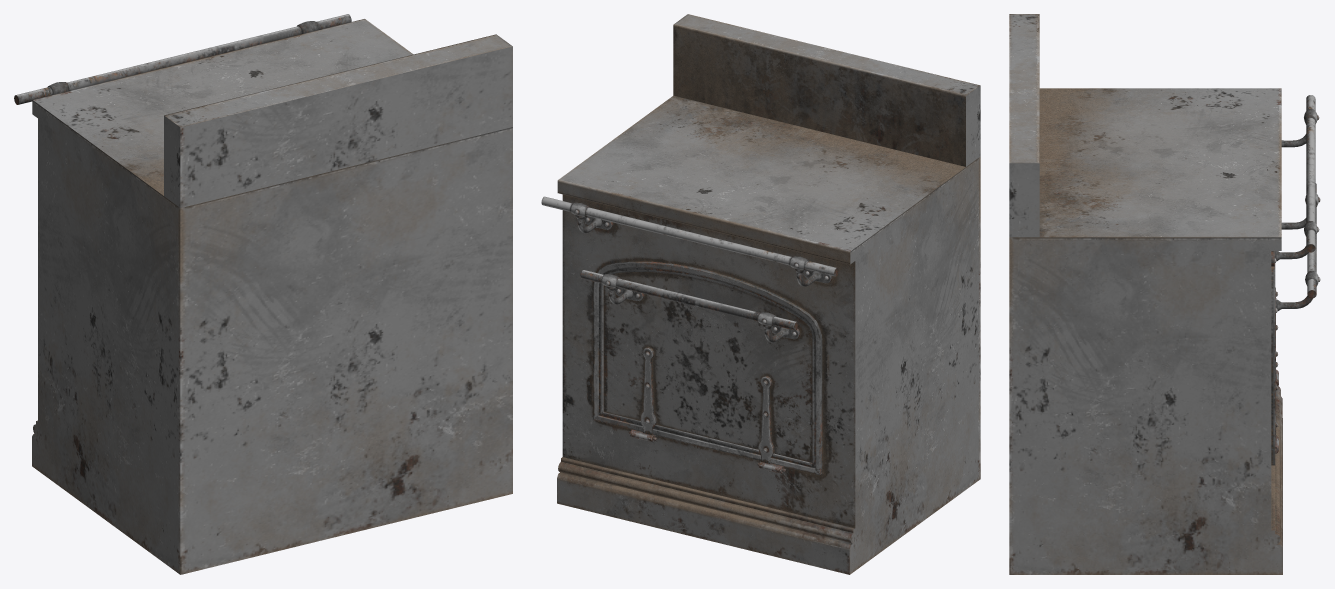
Rendered from SM_KitchenCabinet01_4_LOD0.glb.
3 views of the same model, side by side, from view 1: azimuth 30°, elevation 25°; view 2: azimuth 150°, elevation 25°; view 3: azimuth 270°, elevation 25° (orthographic). The views are drawn at different scales.
Visible parts, largest first — view 1: SM_KitchenCabinet01_4_LOD0; view 2: SM_KitchenCabinet01_4_LOD0; view 3: SM_KitchenCabinet01_4_LOD0.
Part boxes in pixels (x1,y1,x2,y2): SM_KitchenCabinet01_4_LOD0: (14,14,512,574); SM_KitchenCabinet01_4_LOD0: (541,14,980,574); SM_KitchenCabinet01_4_LOD0: (1009,14,1320,574).
Bounding box in the file's own units: 1 × 1.29 × 0.8808.
Materials: 1 (1 with a texture image).
